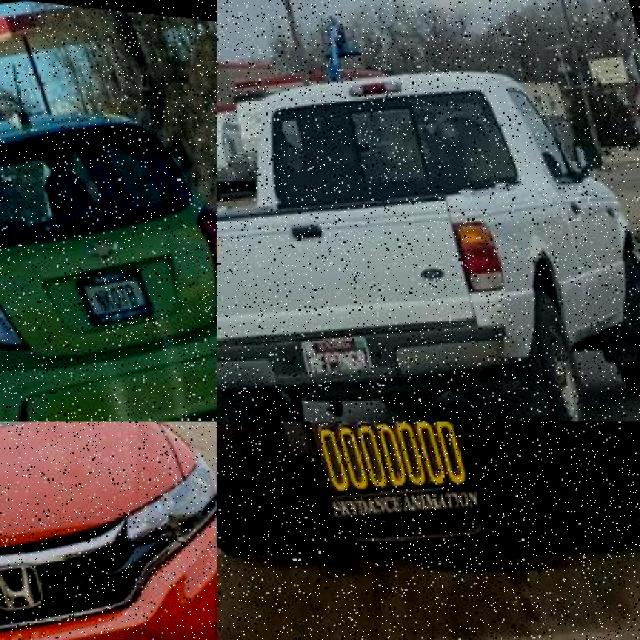licenseplate: (297, 422, 482, 517), (70, 258, 151, 318), (292, 329, 370, 373)
